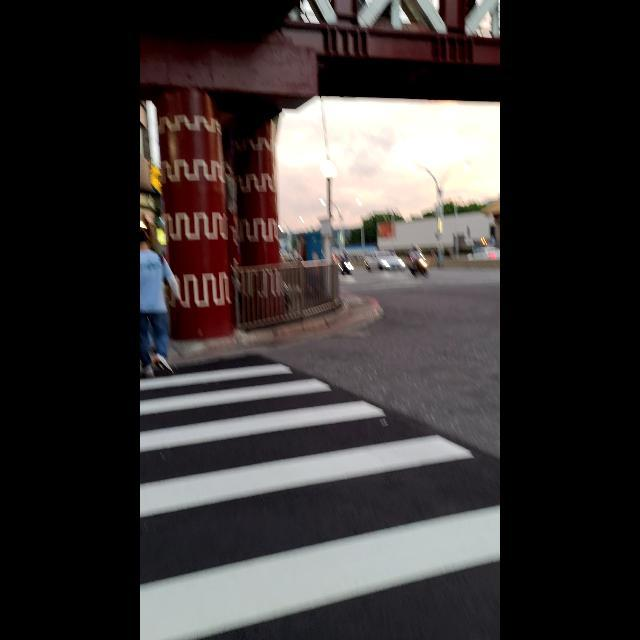sidewalk: (140, 353, 500, 640)
